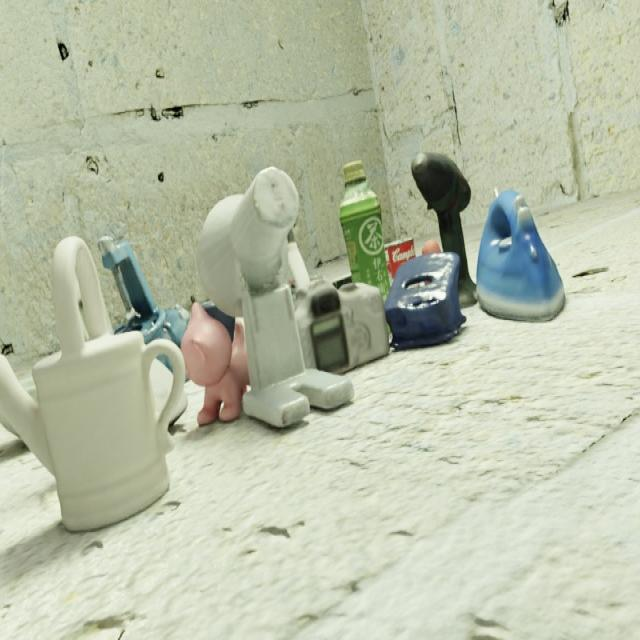Other Objects: (0, 237, 185, 531), (243, 285, 353, 427), (476, 191, 565, 321), (98, 236, 188, 345), (181, 303, 248, 425), (384, 252, 465, 345), (339, 160, 389, 297), (337, 283, 389, 368), (385, 239, 415, 277), (422, 239, 439, 253)
